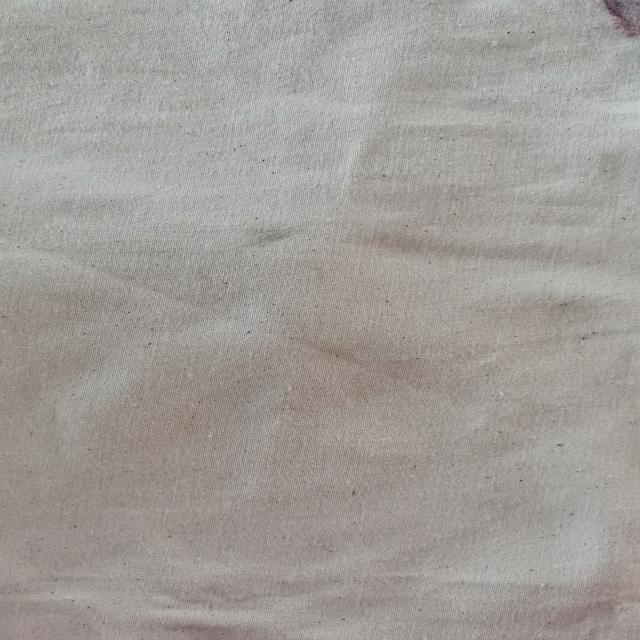taaaches: (239, 214, 325, 261), (588, 3, 640, 50)
